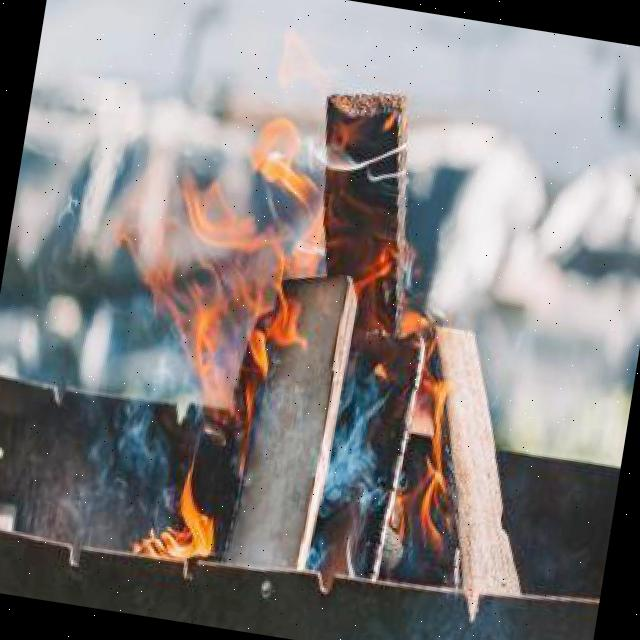fire: (82, 95, 514, 605)
